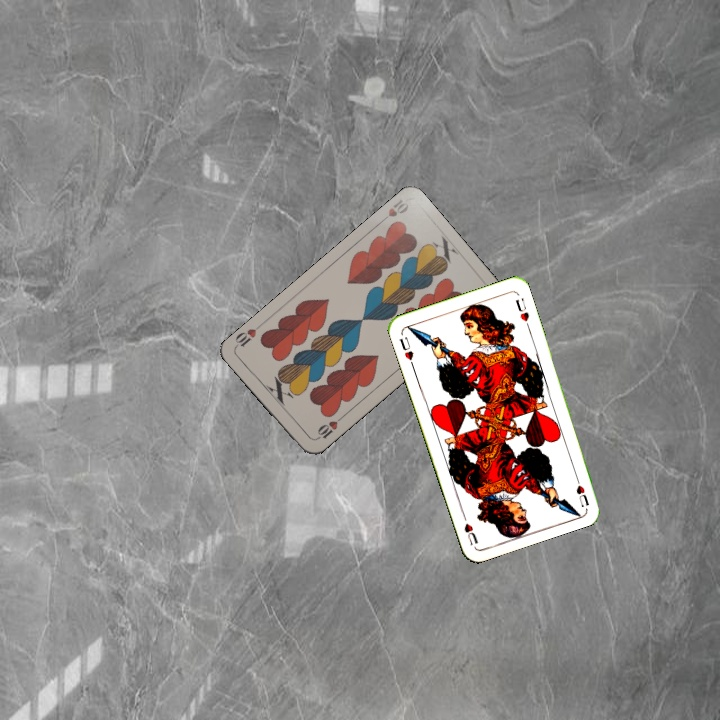H10: (375, 195, 411, 226), (312, 412, 346, 443)
HU: (570, 470, 591, 509), (395, 333, 416, 363)
